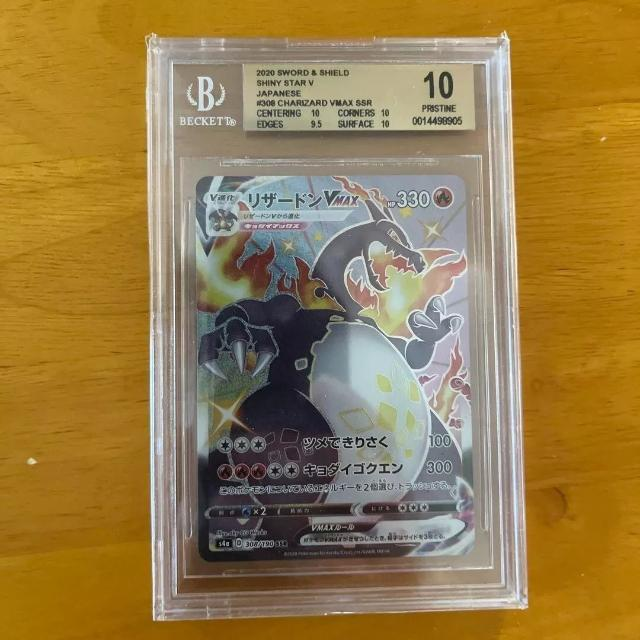bgs_label: (242, 61, 479, 132)
bgs_slab: (145, 36, 531, 622)
card: (194, 174, 478, 563)
